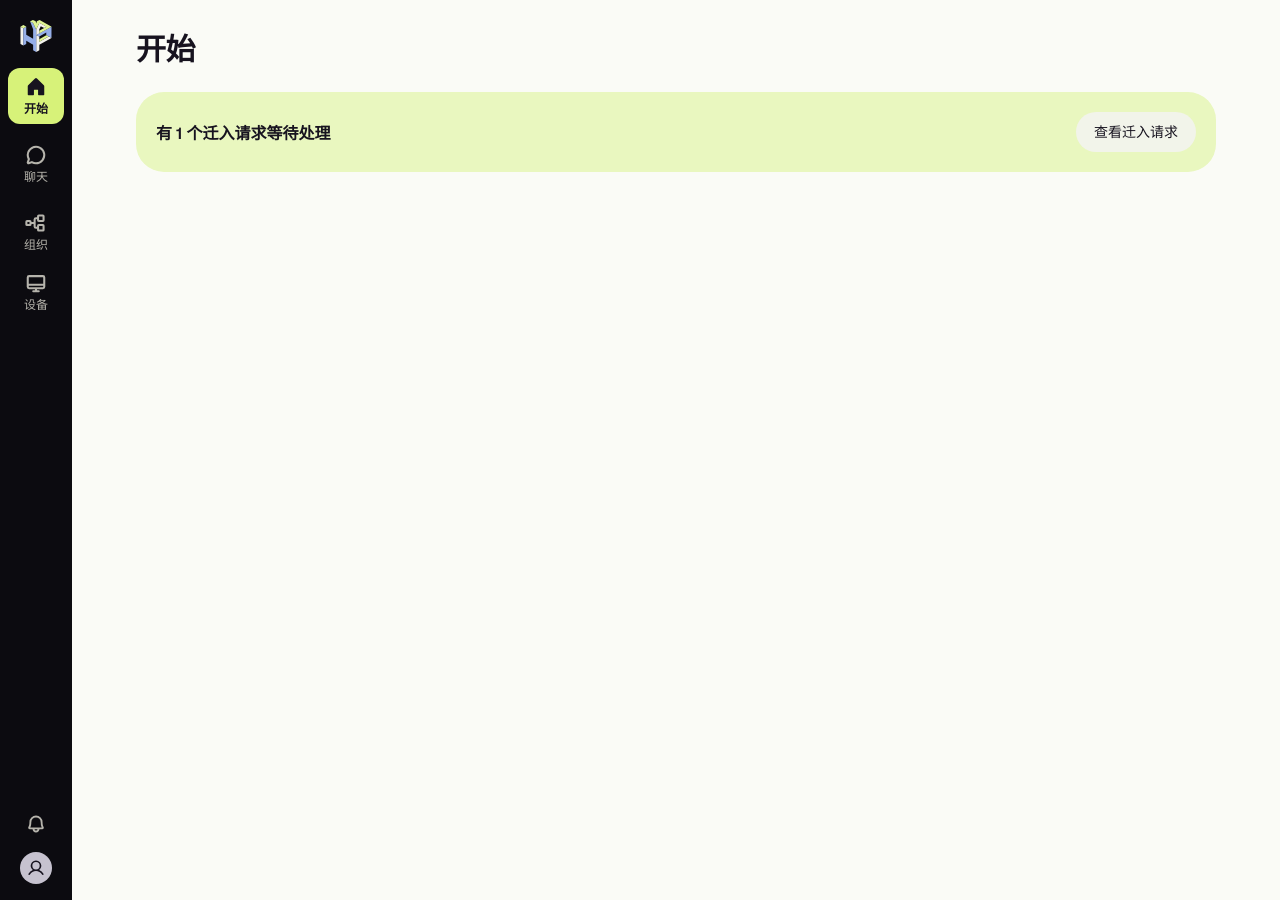
it: 拓扑：结构视图 › 数据源没有提供组织配置时显示“状态未确认”
Step 1. Click the button "组织" → click(36, 232), box [8,204,64,260]
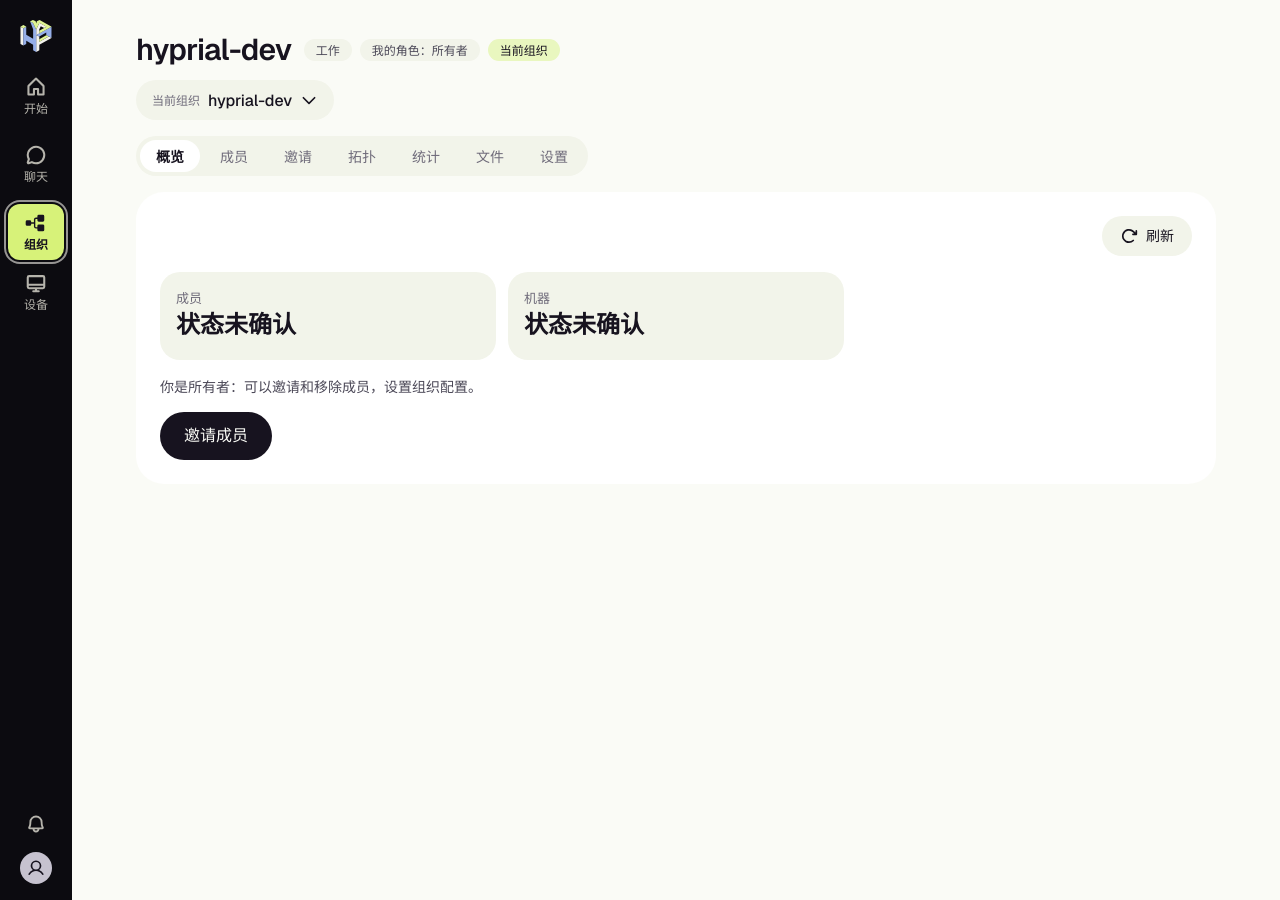
Step 2. Click the tab "拓扑" → click(362, 156), box [332,140,392,172]
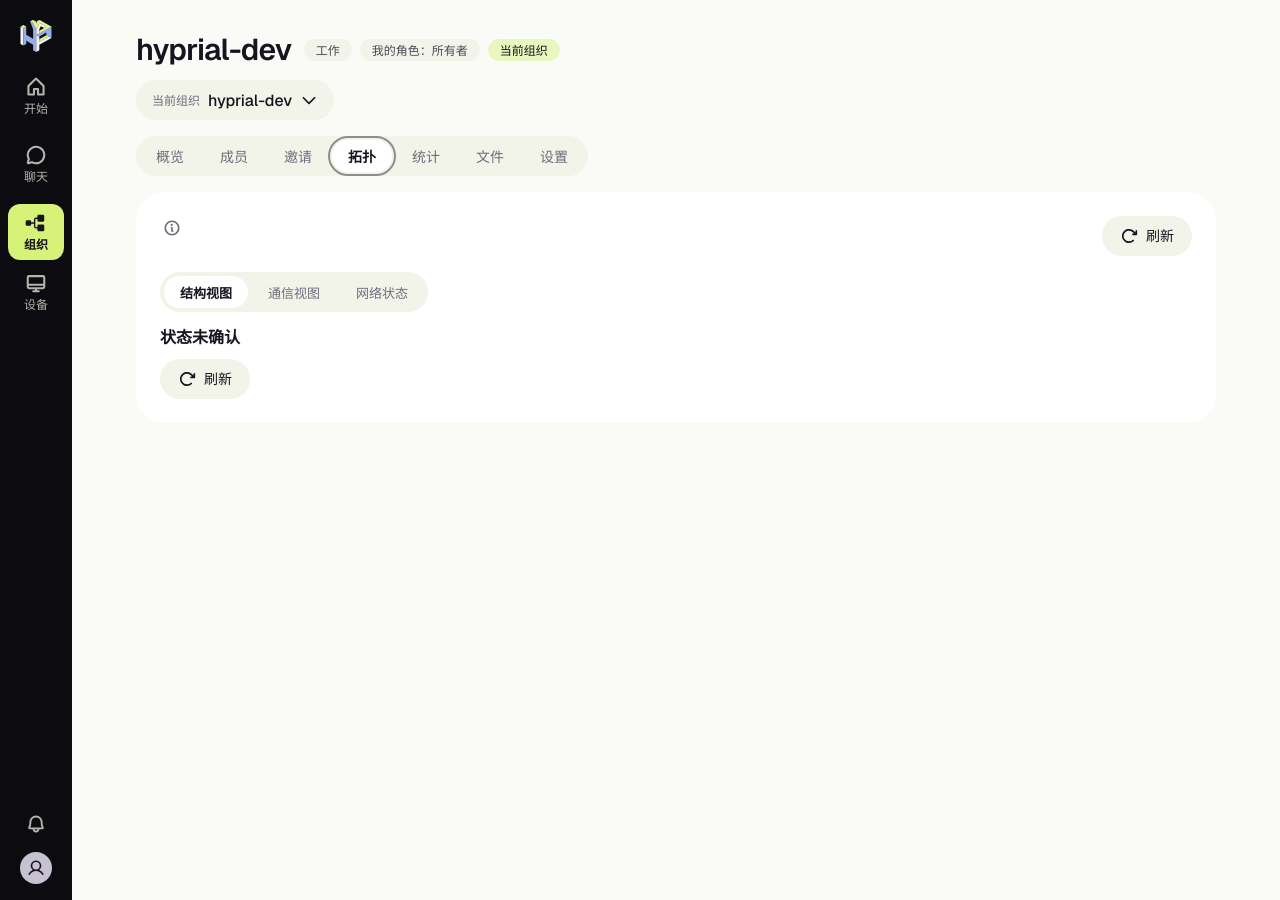
Expected: the panel named "结构视图" shows "状态未确认", [160,327,240,348]
